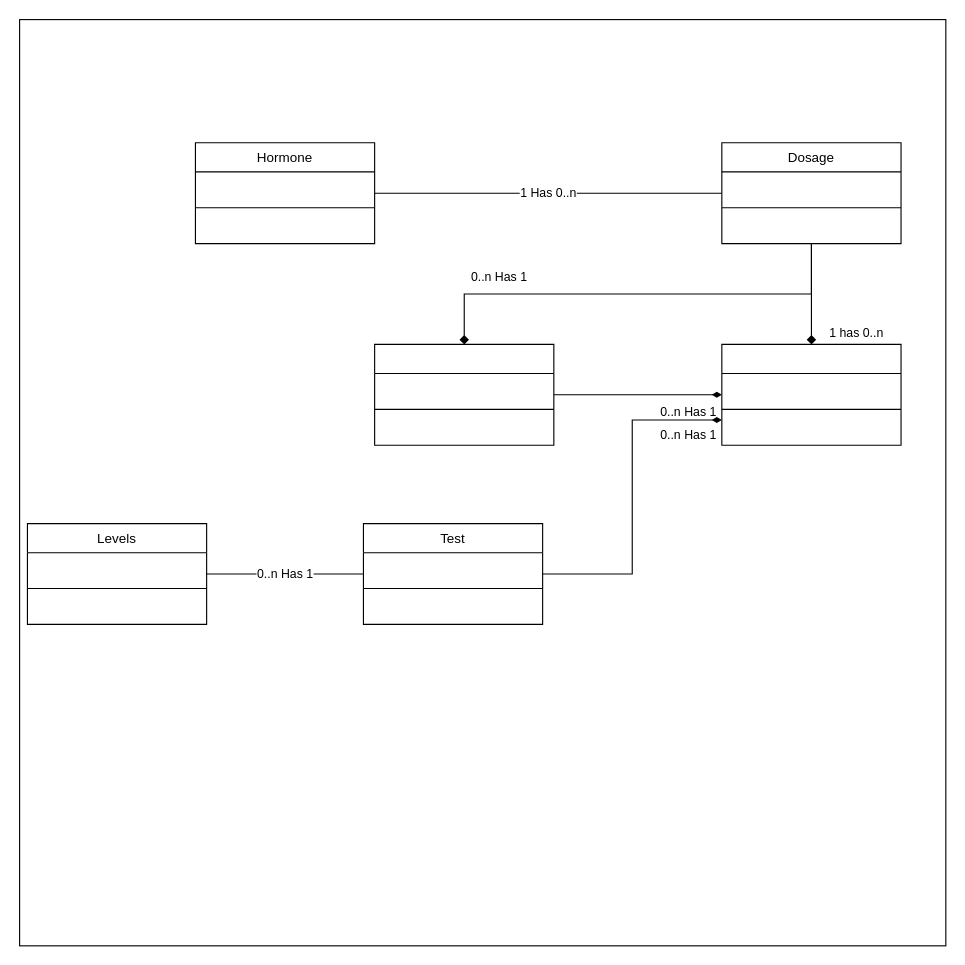
Image size: 965x965. Some labels were removed from this diagram. The shapes that lost their labels are listed below. From the top down, each one's centre as x and y in pixels, then its label:
(464,394): Dose
(811,394): User
